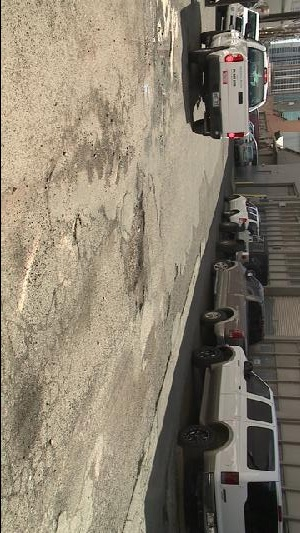pothole: (125, 191, 148, 290), (132, 285, 148, 314), (165, 26, 176, 61)
